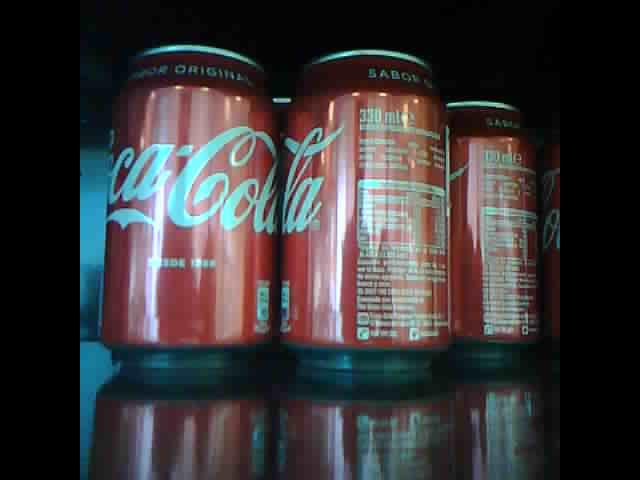coca cola: (96, 43, 281, 377), (279, 47, 453, 373), (445, 93, 542, 354)
